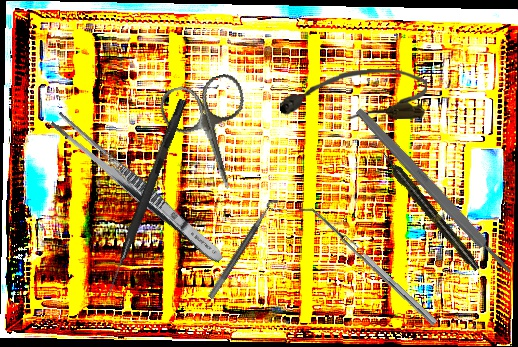Cannula: (279, 67, 428, 124)
Dressing Forceps: (47, 110, 229, 268)
Fixation Ring: (206, 195, 287, 306)
Handpiece: (378, 148, 483, 274)
Hook Surgical: (104, 97, 187, 300)
Iris Scissors: (155, 70, 268, 201)
Scalpel Handle: (353, 105, 515, 278)
Spatula Surgical: (298, 200, 438, 331)
